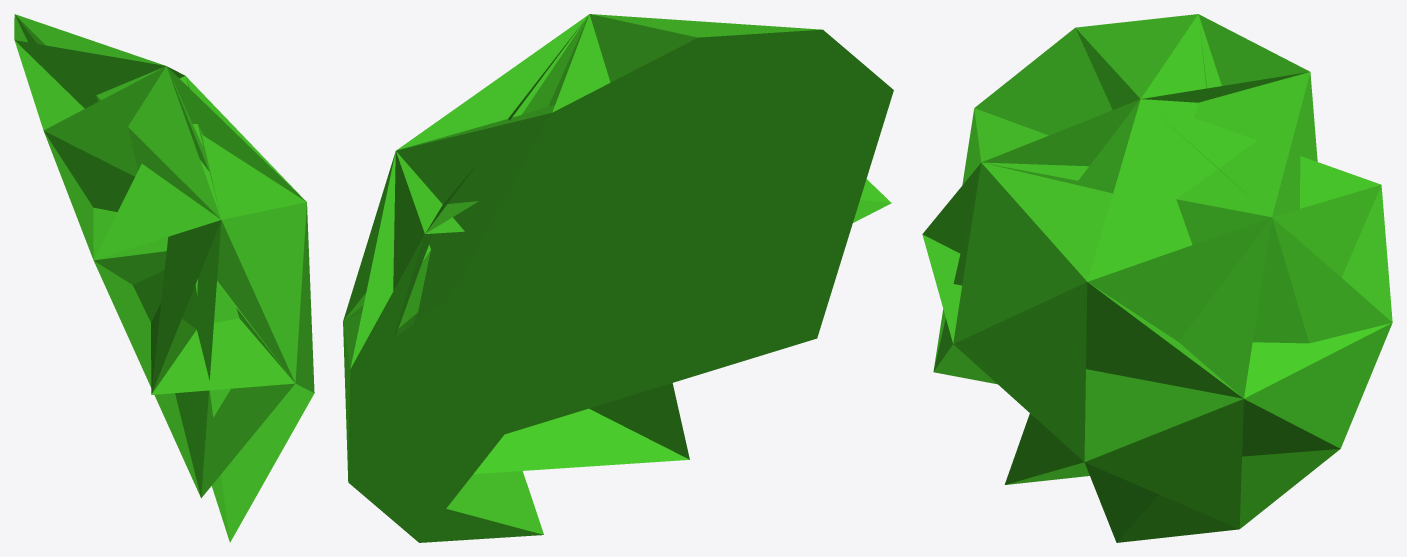
File: S.S._Dolphin_Libra.obj
3 views of the same model, side by side, from view 1: azimuth 30°, elevation 25°; view 2: azimuth 150°, elevation 25°; view 3: azimuth 270°, elevation 25° (orthographic). The views are drawn at different scales.
Visible parts, largest first — view 1: S.S._Dolphin_Libra; view 2: S.S._Dolphin_Libra; view 3: S.S._Dolphin_Libra.
Part boxes in pixels (box(x1,y1,x2,y2)): S.S._Dolphin_Libra: box(14, 14, 314, 542); S.S._Dolphin_Libra: box(343, 14, 893, 542); S.S._Dolphin_Libra: box(922, 14, 1392, 542).
Size of the model in its own units: 0.7571 by 1.13 by 1.07.
